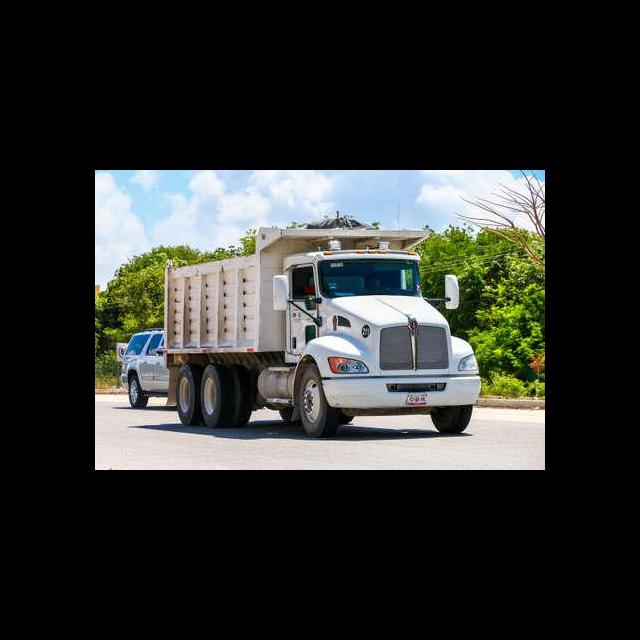SUV: (120, 327, 171, 409)
dump truck: (163, 218, 484, 438)
